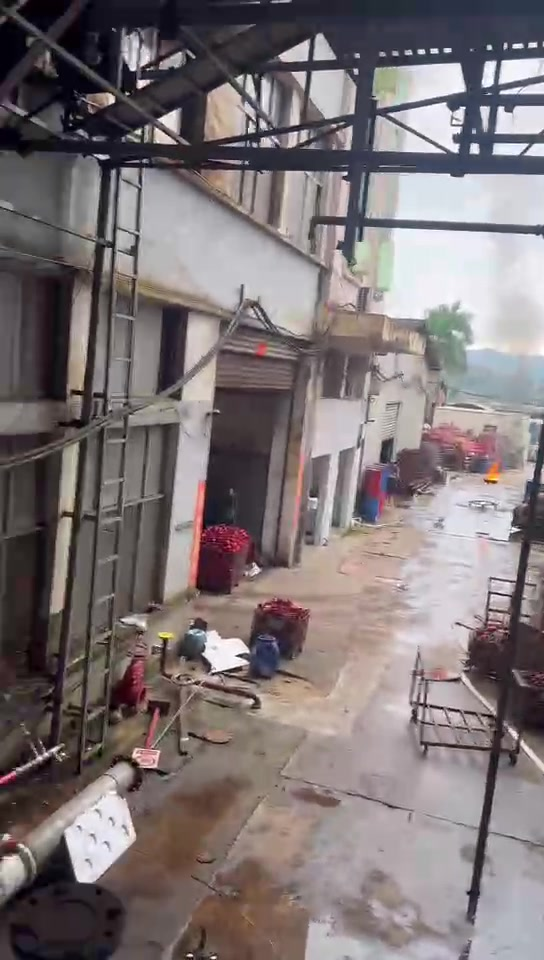fire: (482, 462, 499, 481)
